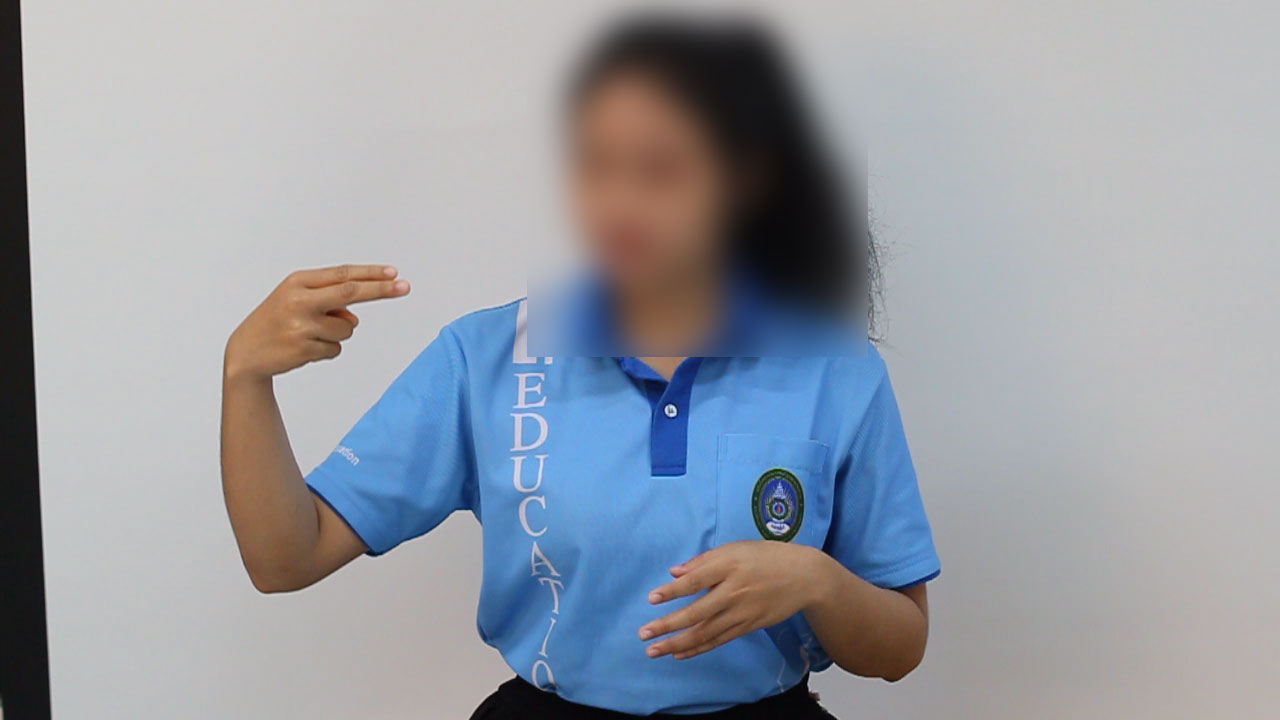hor: (196, 248, 429, 390)
